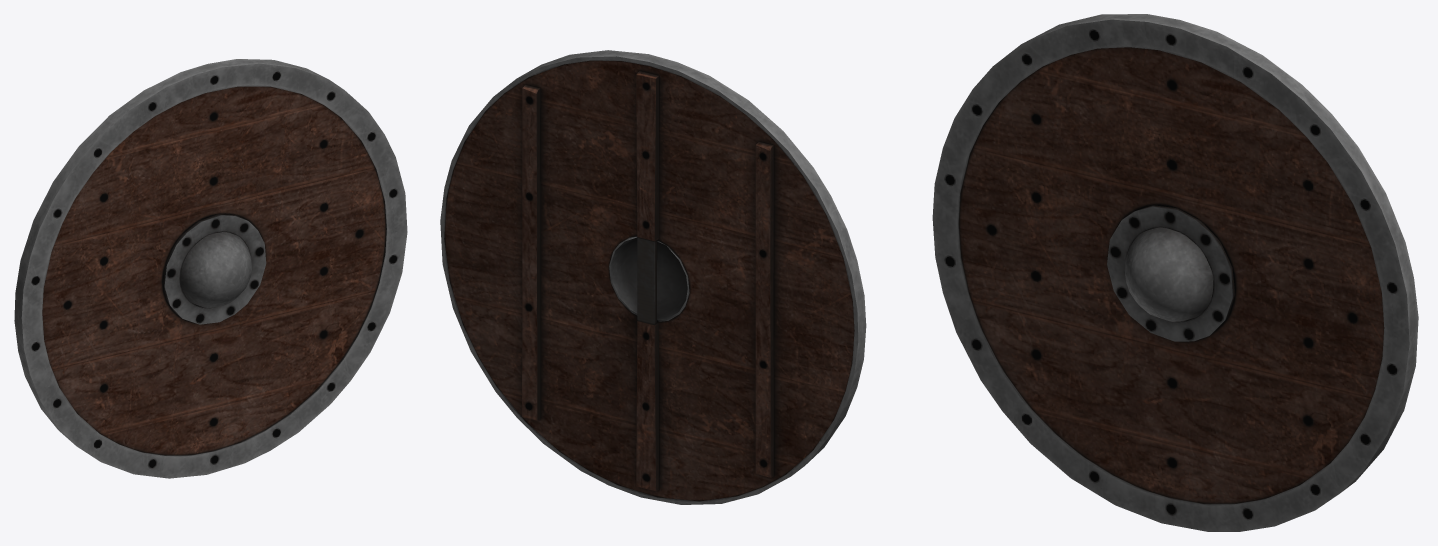
Rendered from Schild_LOD2.dae.
3 views of the same model, side by side, from view 1: azimuth 30°, elevation 25°; view 2: azimuth 150°, elevation 25°; view 3: azimuth 330°, elevation 25° (orthographic). The views are drawn at different scales.
Parts seen in each view (by area): view 1: Schild_LOD2; view 2: Schild_LOD2; view 3: Schild_LOD2.
Part boxes in pixels (left/top/right/bottom): Schild_LOD2: left=14, top=59, right=407, bottom=478; Schild_LOD2: left=440, top=50, right=866, bottom=504; Schild_LOD2: left=932, top=14, right=1418, bottom=531.
Bounding box in the file's own units: 0.85 × 0.105 × 0.85.
1 material, 1 textured.
